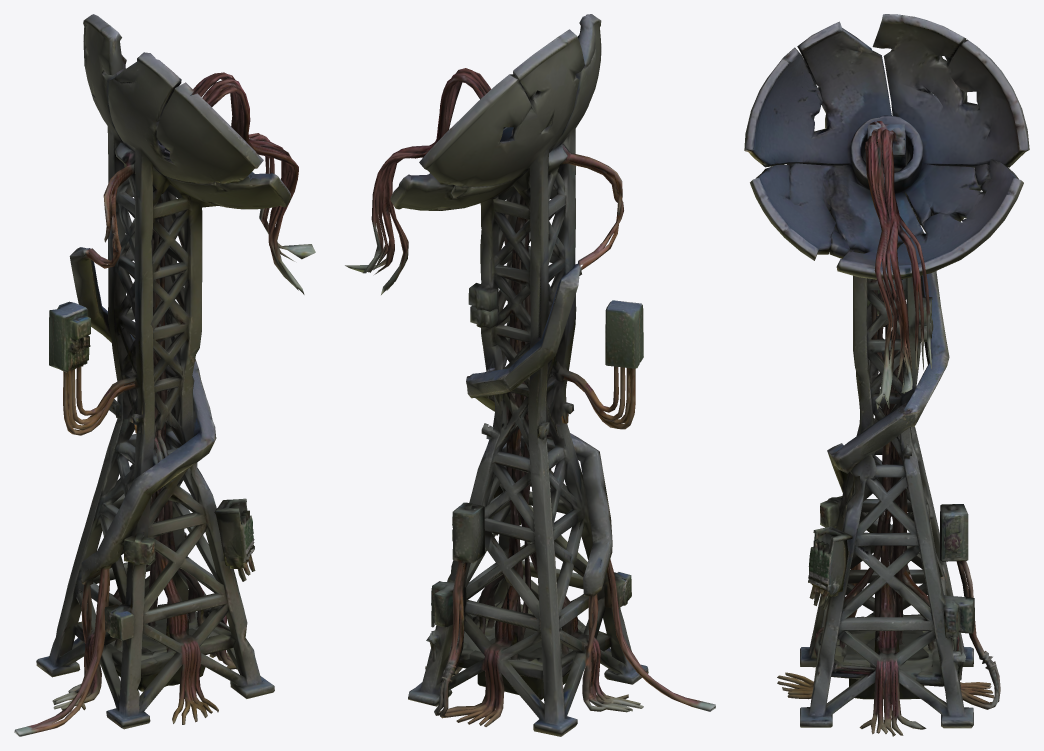
The model's file is Torre1.glb.
3 views of the same model, side by side, from view 1: azimuth 30°, elevation 25°; view 2: azimuth 150°, elevation 25°; view 3: azimuth 270°, elevation 25° (orthographic).
Parts seen in each view (by area): view 1: tripo_node_3879bfb1-8d06-4cfa-8444-e474fa31191a; view 2: tripo_node_3879bfb1-8d06-4cfa-8444-e474fa31191a; view 3: tripo_node_3879bfb1-8d06-4cfa-8444-e474fa31191a.
Part boxes in pixels (box(x1,y1,x2,y2)): tripo_node_3879bfb1-8d06-4cfa-8444-e474fa31191a: box(14, 14, 315, 736); tripo_node_3879bfb1-8d06-4cfa-8444-e474fa31191a: box(345, 14, 715, 736); tripo_node_3879bfb1-8d06-4cfa-8444-e474fa31191a: box(744, 14, 1029, 736).
Bounding box in the file's own units: 0.5132 × 0.9791 × 0.3848.
Materials: 1 (1 with a texture image).
